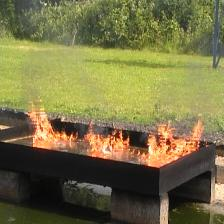fire: (139, 121, 204, 162), (27, 97, 79, 147), (84, 118, 130, 152)
